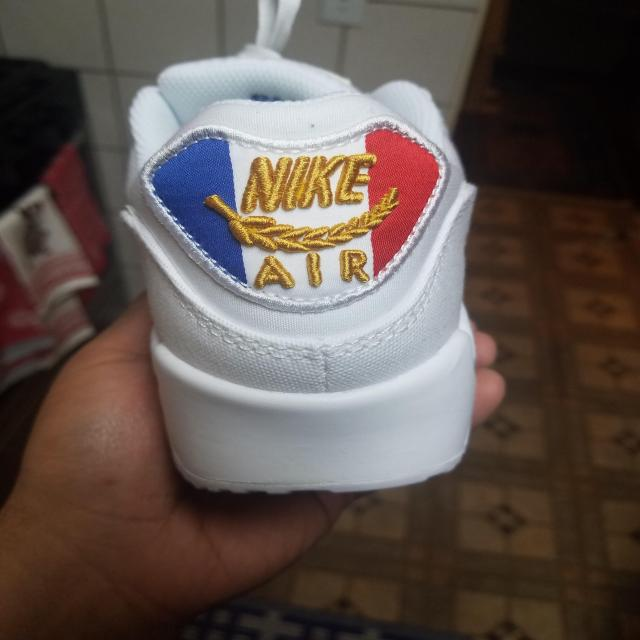shoes: (94, 41, 593, 505)
